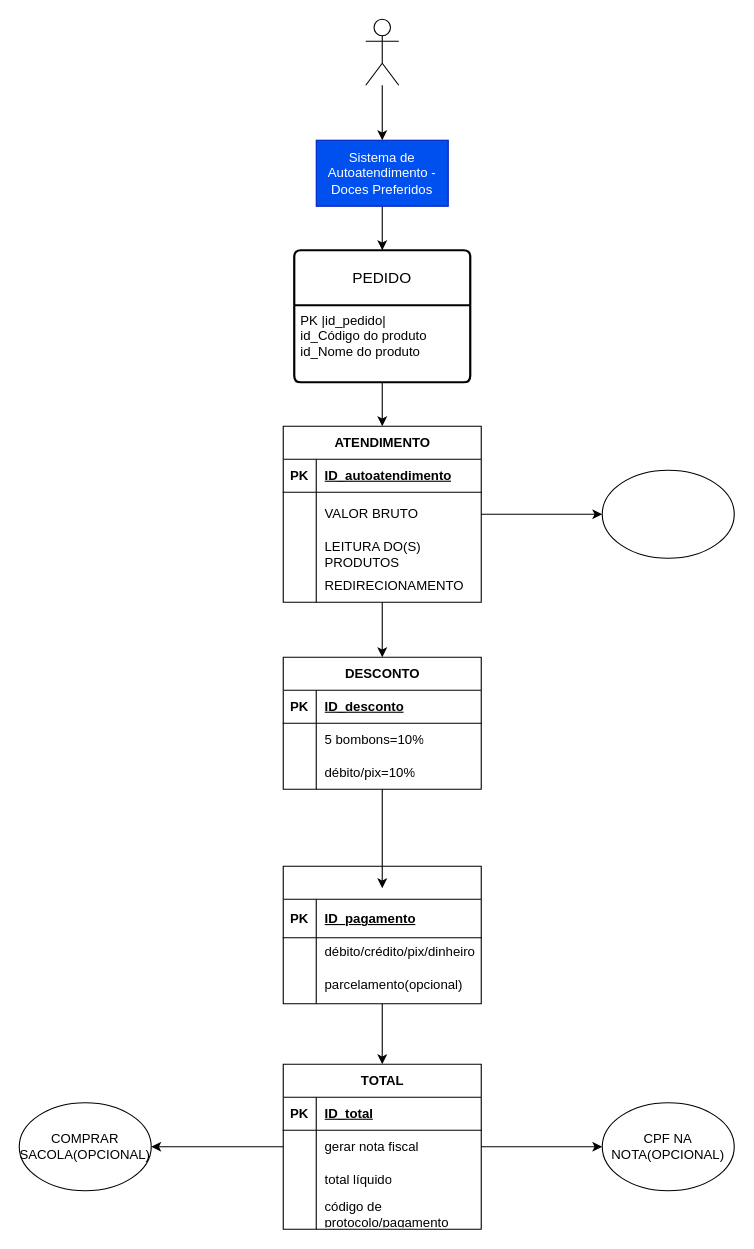
This 754x1249 diagram has some shape labels left out. The shapes that lost their labels are listed below. From the top down, each one's box as (x1, y1, x2, y2) in pixels, then its label:
(365, 18, 399, 85): CLIENTE
(601, 469, 734, 558): AVALIAÇÃO DO CLIENTE(OPCIONAL)
(282, 865, 481, 1004): FORMA DE PAGAMENTO
